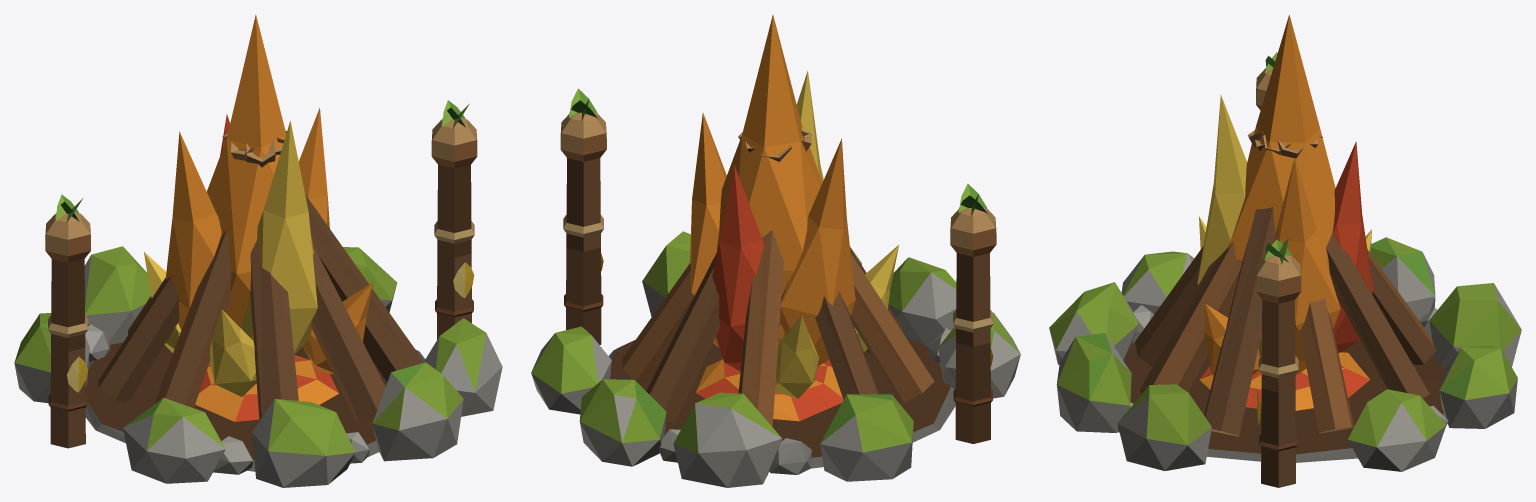
File: campfire_bonfire.glb
The picture shows the model from 3 angles, left to right: view 1: azimuth 30°, elevation 25°; view 2: azimuth 150°, elevation 25°; view 3: azimuth 270°, elevation 25°; orthographic projection.
Parts seen in each view (by area): view 1: campfire_bonfire, flame; view 2: campfire_bonfire, flame; view 3: campfire_bonfire, flame.
Part boxes in pixels (x1=…): campfire_bonfire: x1=14, y1=100, x2=502, y2=487; flame: x1=144, y1=14, x2=373, y2=396; campfire_bonfire: x1=531, y1=88, x2=1020, y2=487; flame: x1=690, y1=15, x2=898, y2=398; campfire_bonfire: x1=1049, y1=52, x2=1521, y2=487; flame: x1=1197, y1=14, x2=1373, y2=377.
Size of the model in its own units: 1.84 by 1.52 by 1.75.
